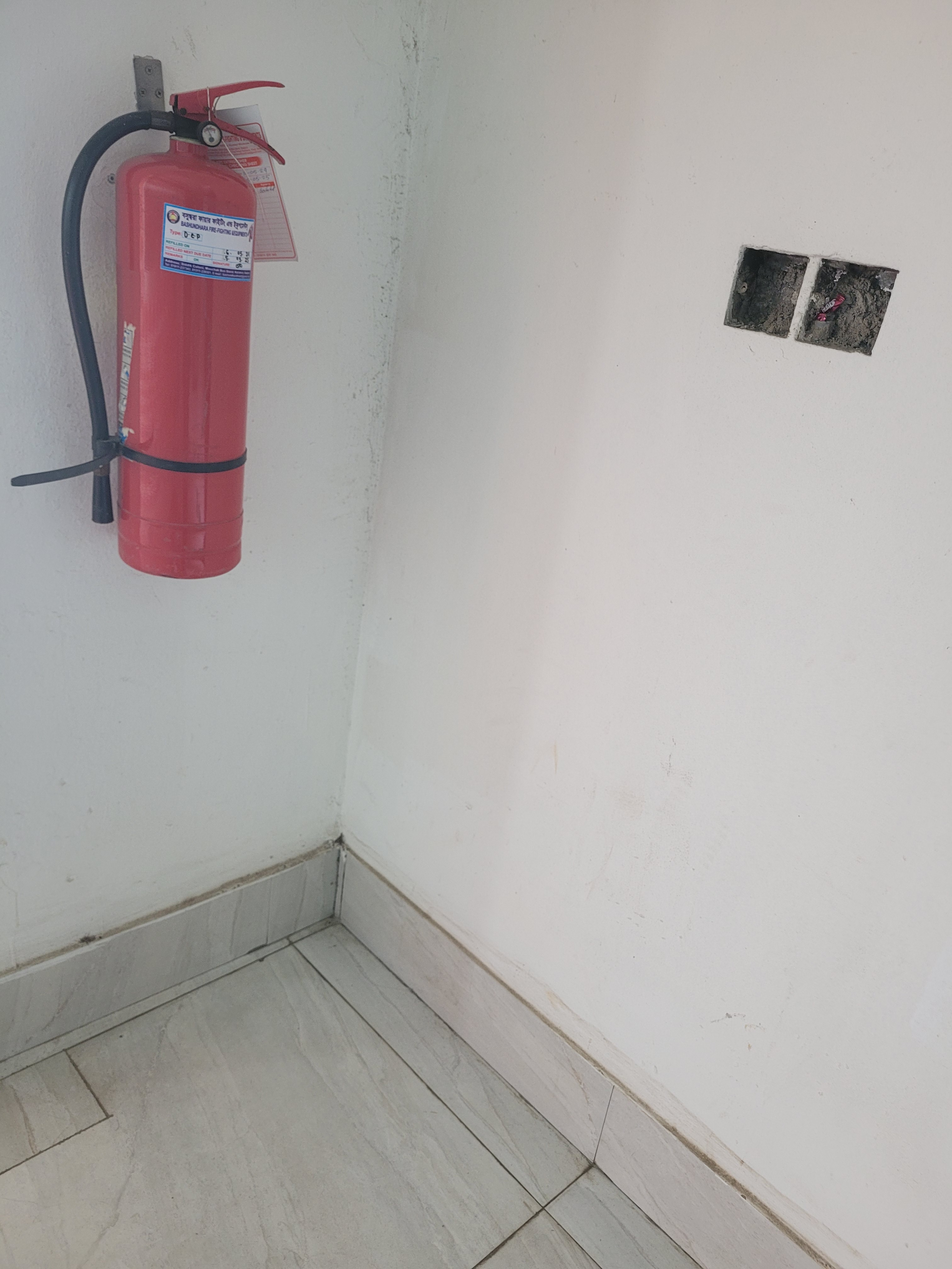fire_extinguisher: (42, 873, 435, 1254)
